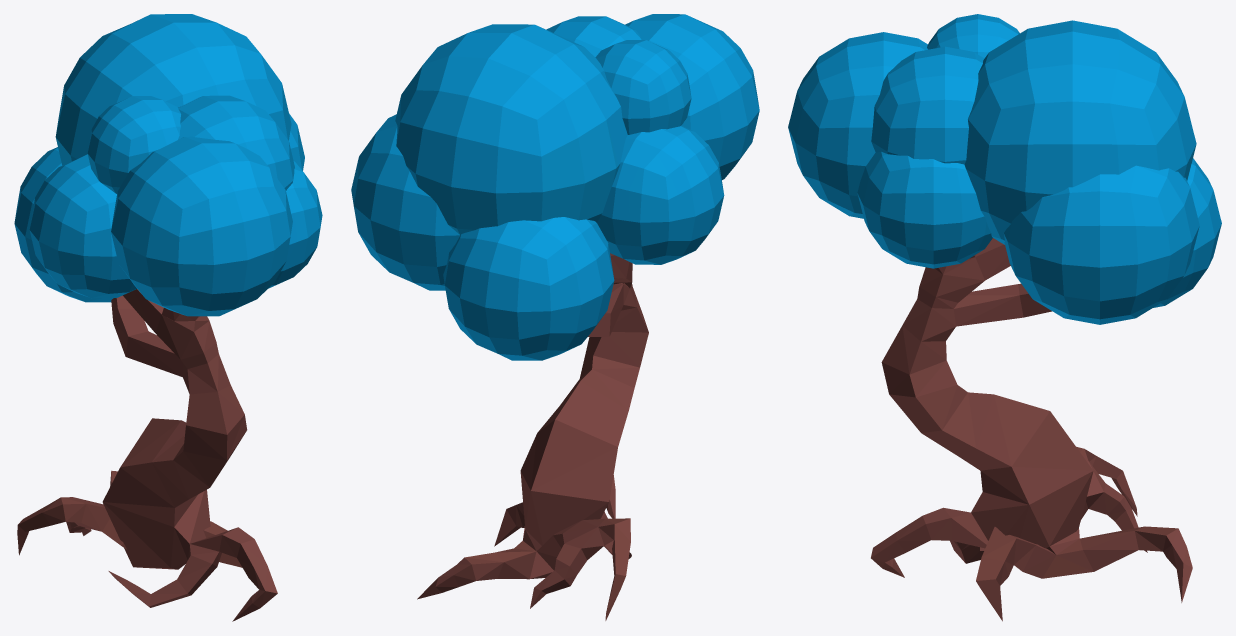
File: TreePackage.fbx_Tree_014.fbx
3 renders of one model, left to right at view 1: azimuth 30°, elevation 25°; view 2: azimuth 150°, elevation 25°; view 3: azimuth 270°, elevation 25°, orthographic. The views are drawn at different scales.
Visible parts, largest first — view 1: Cube.004, Plane.009; view 2: Cube.004, Plane.009; view 3: Cube.004, Plane.009.
Boxes of the visible parts, x1,y1,x2,y2 form: Cube.004: (14,14,322,316); Plane.009: (17,289,277,621); Cube.004: (351,14,759,360); Plane.009: (417,253,648,620); Cube.004: (788,14,1221,324); Plane.009: (871,238,1192,621).
Size of the model in its own units: 454 by 783 by 546.
